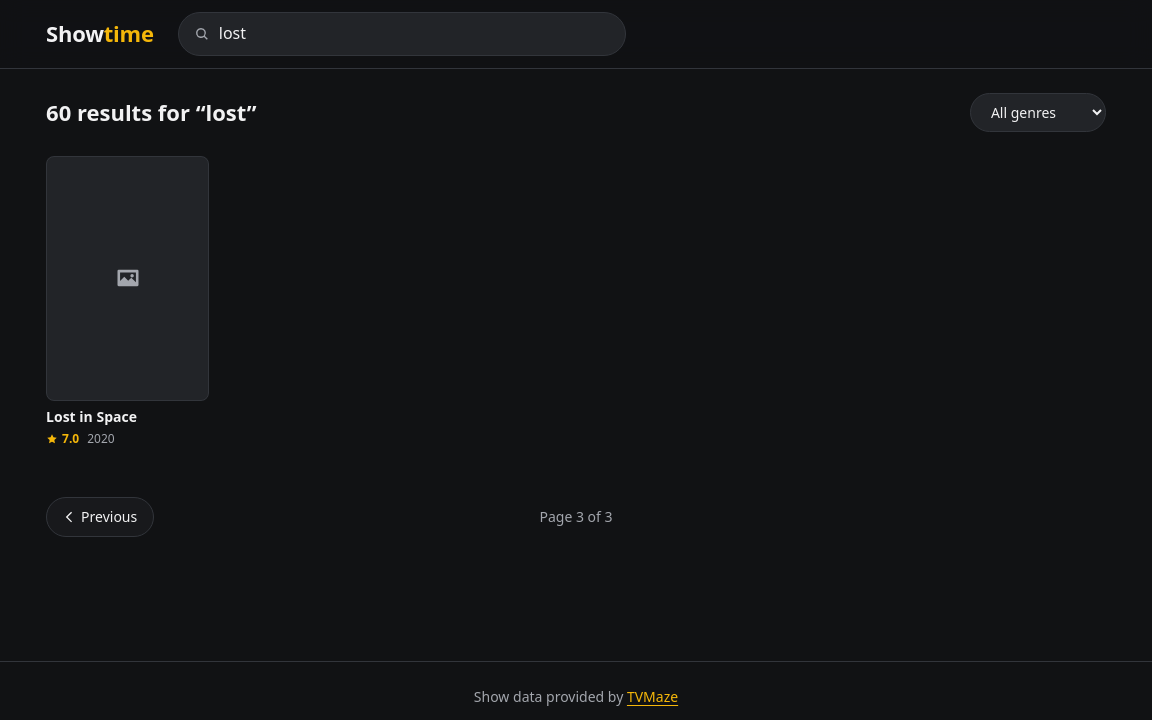
Test: searching by name › narrows the results to a genre, starting again from the first page
Select "Fantasy" in the dropdown named "Genre": coordinates (1038, 112) [970,93,1106,132]
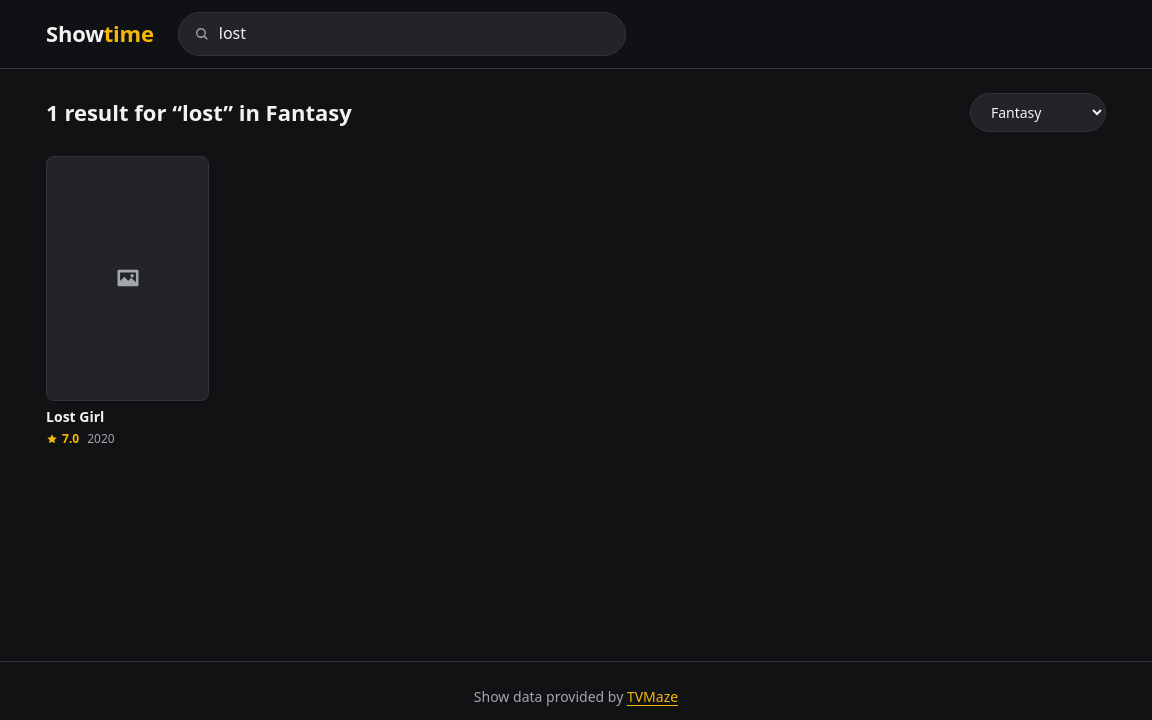
Expected: the heading "1 result for “lost” in Fantasy" is shown, [46,99,352,125]
